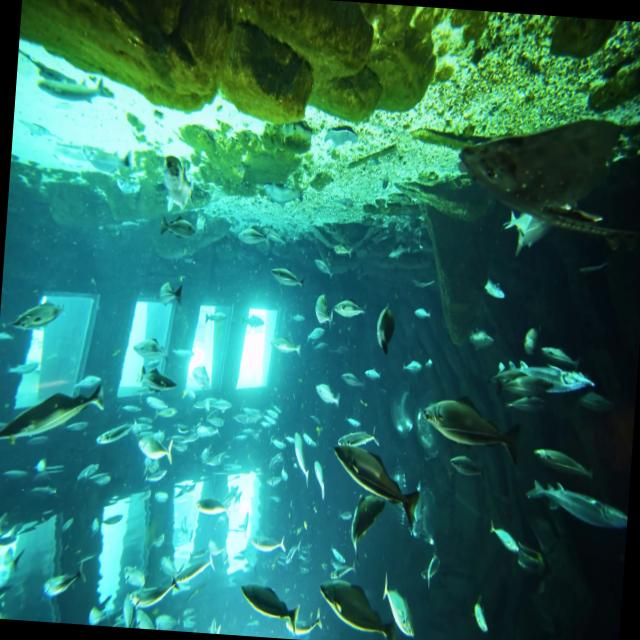fish: (414, 396, 526, 484), (322, 431, 421, 527), (0, 363, 104, 448), (478, 354, 600, 414), (522, 472, 630, 538), (312, 569, 409, 640), (231, 571, 311, 640), (118, 568, 188, 626), (500, 198, 554, 269), (163, 536, 216, 602), (7, 285, 62, 343), (528, 436, 594, 482), (133, 356, 190, 404), (344, 487, 392, 540), (472, 254, 513, 314), (282, 422, 318, 486), (306, 440, 338, 508), (368, 302, 402, 355), (513, 534, 549, 584), (483, 519, 524, 561), (329, 288, 367, 332), (154, 270, 188, 319), (530, 343, 582, 375), (412, 544, 443, 597), (302, 375, 342, 416), (190, 483, 227, 522), (264, 257, 302, 293), (469, 590, 494, 638), (407, 294, 440, 329), (463, 324, 495, 357), (396, 358, 424, 392)
